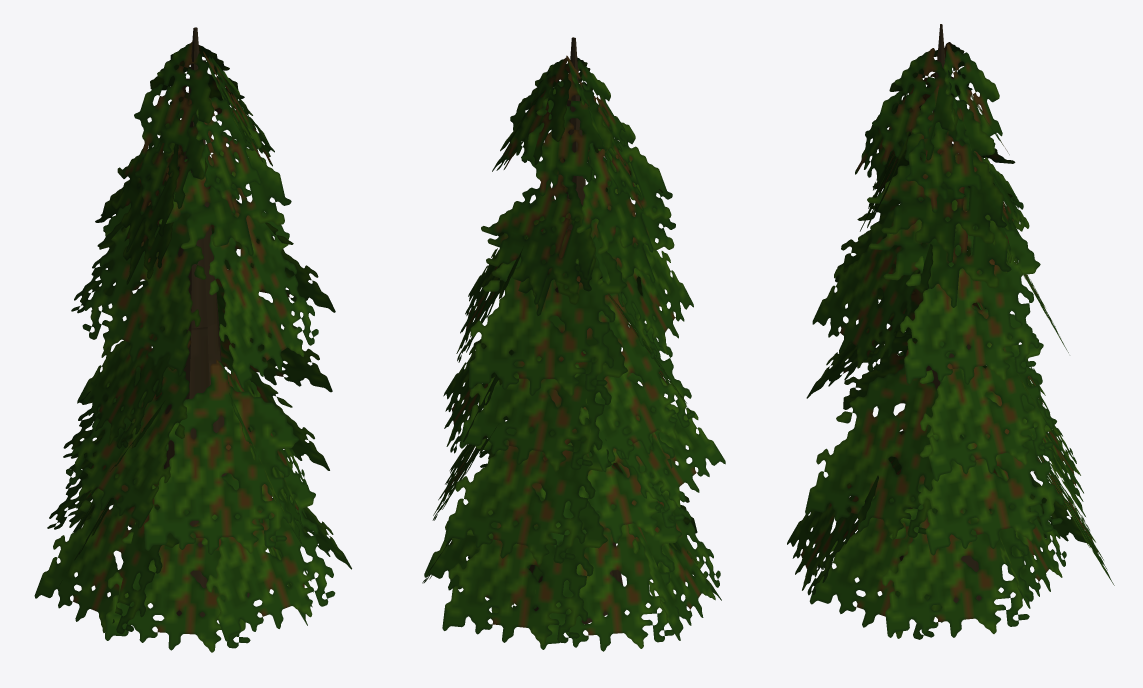
File: SpruceTree.fbx
3 views of the same model, side by side, from view 1: azimuth 30°, elevation 25°; view 2: azimuth 150°, elevation 25°; view 3: azimuth 270°, elevation 25° (orthographic).
Parts seen in each view (by area): view 1: SpruceLeaves, SpruceTreeBase; view 2: SpruceLeaves, SpruceTreeBase; view 3: SpruceLeaves, SpruceTreeBase.
Part boxes in pixels (left/top/right/bottom): SpruceLeaves: left=34, top=42, right=351, bottom=652; SpruceTreeBase: left=164, top=27, right=249, bottom=620; SpruceLeaves: left=422, top=55, right=725, bottom=651; SpruceTreeBase: left=529, top=37, right=623, bottom=624; SpruceLeaves: left=787, top=42, right=1114, bottom=639; SpruceTreeBase: left=899, top=24, right=981, bottom=602.
Size of the model in its own units: 184 by 349 by 192.
4 materials, 4 textured.
